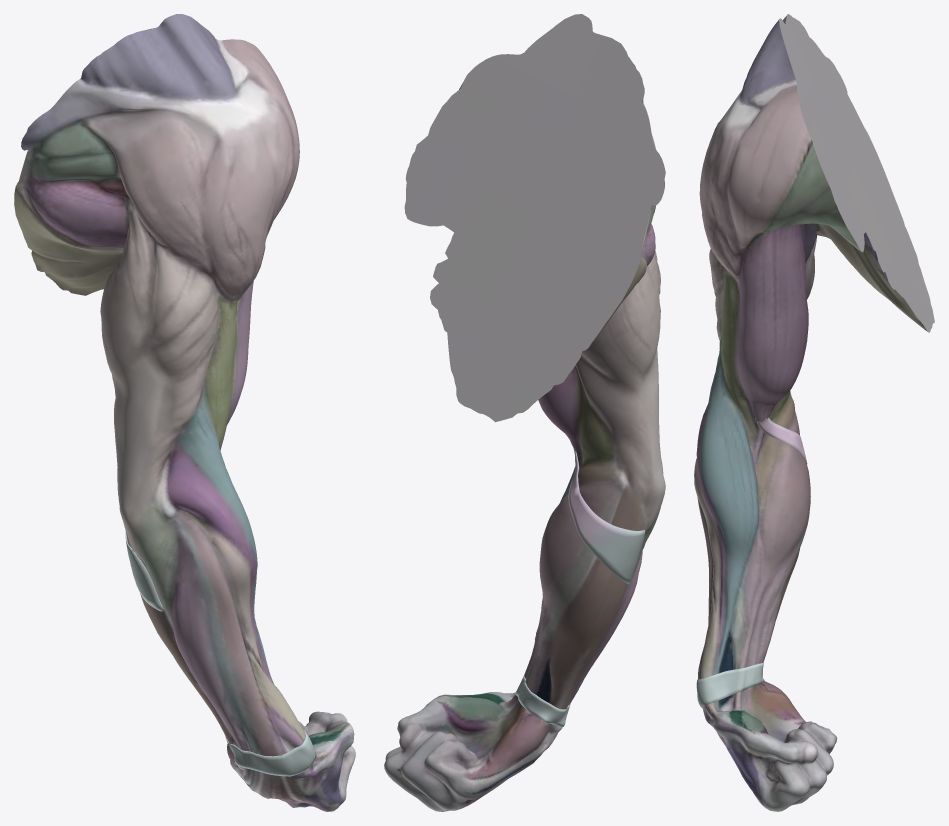
File: 人物其它_Muscle man sections_Straight_right_arm_opt.glb
3 renders of one model, left to right at view 1: azimuth 30°, elevation 25°; view 2: azimuth 150°, elevation 25°; view 3: azimuth 270°, elevation 25°, orthographic. The views are drawn at different scales.
Visible parts, largest first — view 1: Straight_right_arm_2, Straight_right_arm_1; view 2: Straight_right_arm_2, Straight_right_arm_1; view 3: Straight_right_arm_2, Straight_right_arm_1.
Part boxes in pixels (bbox=[...]): Straight_right_arm_2: bbox=[14, 14, 355, 811]; Straight_right_arm_1: bbox=[125, 532, 316, 776]; Straight_right_arm_2: bbox=[384, 14, 665, 811]; Straight_right_arm_1: bbox=[515, 449, 645, 726]; Straight_right_arm_2: bbox=[694, 14, 934, 811]; Straight_right_arm_1: bbox=[696, 417, 807, 707].
Bounding box in the file's own units: 0.1517 × 0.3932 × 0.1182.
2 materials, 2 textured.
